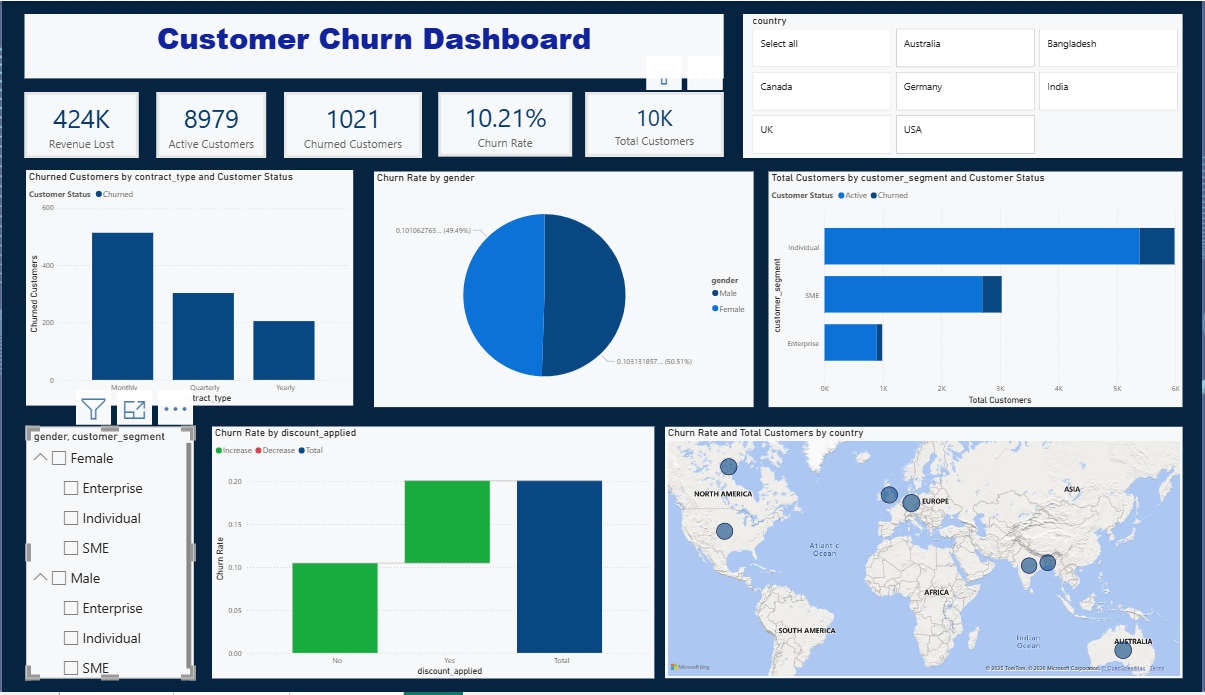

This screenshot's page, from the dashboard's own definition file:
{"tool":"powerbi","page":{"name":"dashboard_overview","canvas":[2000,2000],"ordinal":0},"visuals":[{"type":"card","fields":{"Values":["customer_churn_business_dataset.Revenue Lost"]},"box":[37.5,165,190,110],"z":0},{"type":"card","fields":{"Values":["customer_churn_business_dataset.Active Customers"]},"box":[257.5,165,182.5,110],"z":1000},{"type":"card","fields":{"Values":["customer_churn_business_dataset.Churned Customers"]},"box":[470,165,230,110],"z":2000},{"type":"card","fields":{"Values":["customer_churn_business_dataset.Churn Rate"]},"box":[727.5,165,222.5,107.5],"z":3000},{"type":"card","fields":{"Values":["customer_churn_business_dataset.Total Customers"]},"box":[972.5,165,230,107.5],"z":4000},{"type":"textbox","box":[37.5,35,1165,107.5],"z":5000},{"type":"columnChart","fields":{"Category":["customer_churn_business_dataset.contract_type"],"Y":["customer_churn_business_dataset.Churned Customers"],"Series":["customer_churn_business_dataset.Customer Status"]},"box":[40,295,545,392.5],"z":6000},{"type":"map","fields":{"Category":["customer_churn_business_dataset.country"],"Size":["customer_churn_business_dataset.Churn Rate"]},"box":[1105,722.5,862.5,482.5],"z":7000},{"type":"advancedSlicerVisual","fields":{"Values":["customer_churn_business_dataset.country"]},"box":[1235,35,732.5,240],"z":8000},{"type":"pieChart","fields":{"Category":["customer_churn_business_dataset.gender"],"Y":["customer_churn_business_dataset.Churn Rate"]},"box":[620,297.5,632.5,392.5],"z":9000},{"type":"barChart","fields":{"Category":["customer_churn_business_dataset.customer_segment"],"Y":["customer_churn_business_dataset.Total Customers"],"Series":["customer_churn_business_dataset.Customer Status"]},"box":[1277.5,297.5,690,392.5],"z":10000},{"type":"slicer","fields":{"Values":["customer_churn_business_dataset.gender","customer_churn_business_dataset.customer_segment"]},"box":[40,722.5,280,420],"z":11000},{"type":"waterfallChart","fields":{"Category":["customer_churn_business_dataset.discount_applied"],"Y":["customer_churn_business_dataset.Churn Rate"]},"box":[350,722.5,737.5,482.5],"z":12000},{"type":"actionButton","title":"Next","box":[40,1165,280,40],"z":13000}]}

Visuals, with their boxes on the page's 2000x2000 design canvas (x1, y1, x2, y2). These are canvas units, not pixel positions in the 1205x695 screenshot, which may show the page scaled, cropped or inside an application window:
card - customer_churn_business_dataset.Revenue Lost: rect(38, 165, 228, 275)
card - customer_churn_business_dataset.Active Customers: rect(258, 165, 440, 275)
card - customer_churn_business_dataset.Churned Customers: rect(470, 165, 700, 275)
card - customer_churn_business_dataset.Churn Rate: rect(728, 165, 950, 272)
card - customer_churn_business_dataset.Total Customers: rect(972, 165, 1202, 272)
textbox: rect(38, 35, 1202, 142)
columnChart - customer_churn_business_dataset.contract_type x customer_churn_business_dataset.Churned Customers: rect(40, 295, 585, 688)
map - customer_churn_business_dataset.country x customer_churn_business_dataset.Churn Rate: rect(1105, 722, 1968, 1205)
advancedSlicerVisual - customer_churn_business_dataset.country: rect(1235, 35, 1968, 275)
pieChart - customer_churn_business_dataset.gender x customer_churn_business_dataset.Churn Rate: rect(620, 298, 1252, 690)
barChart - customer_churn_business_dataset.customer_segment x customer_churn_business_dataset.Total Customers: rect(1278, 298, 1968, 690)
slicer - customer_churn_business_dataset.gender x customer_churn_business_dataset.customer_segment: rect(40, 722, 320, 1142)
waterfallChart - customer_churn_business_dataset.discount_applied x customer_churn_business_dataset.Churn Rate: rect(350, 722, 1088, 1205)
"Next" actionButton: rect(40, 1165, 320, 1205)
